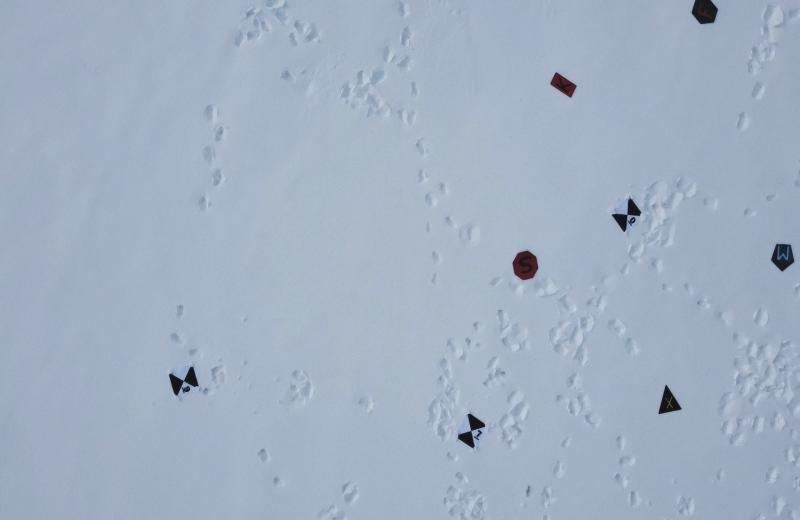Hexagon: (690, 0, 718, 26)
Octagon: (509, 248, 540, 283)
Pentagon: (769, 244, 796, 274)
Rectangle: (548, 69, 578, 101)
Triangle: (655, 383, 684, 415)
